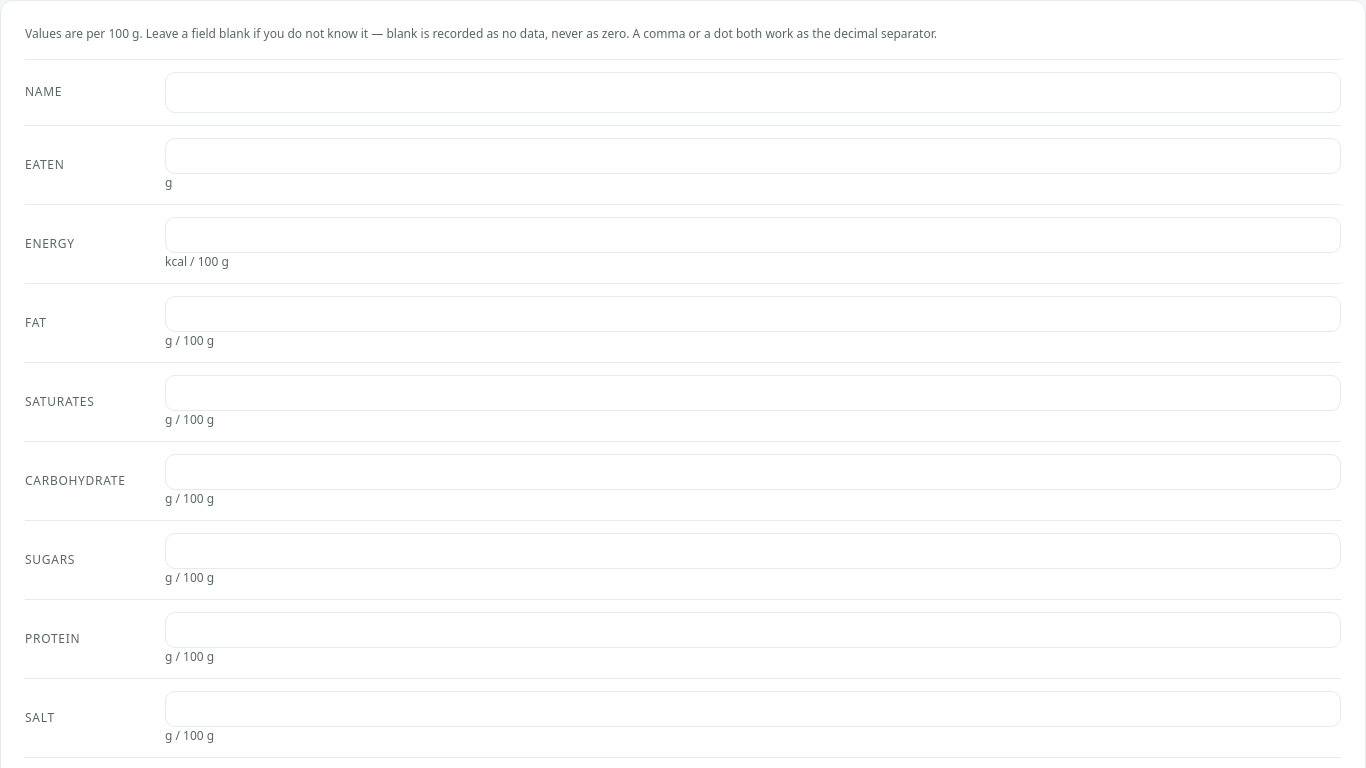
Test: FoodForm › refuses a negative value and names the field
This screenshot has width=1366, height=768.
Type "Apple" into the field with id "food-name". click: (753, 92)
box: left=165, top=72, right=1341, bottom=112
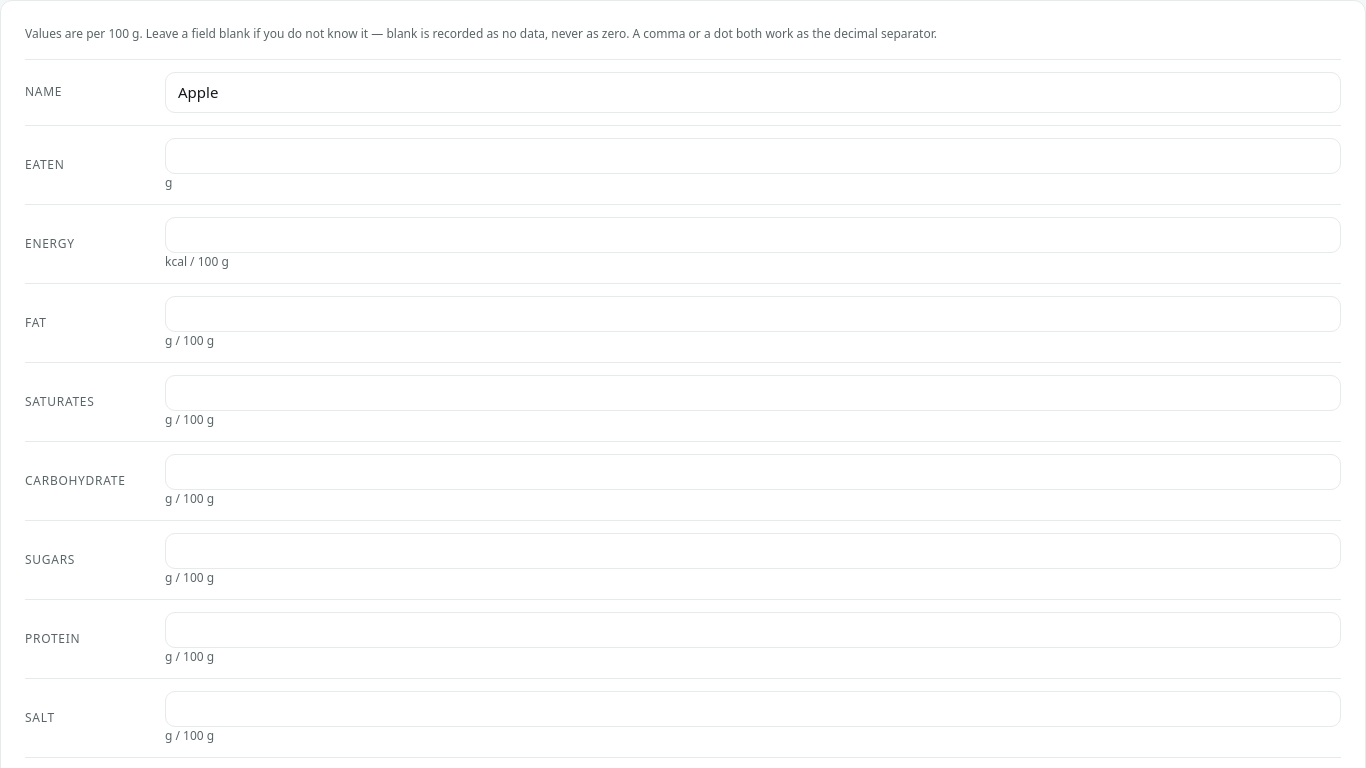
Type "150" into the field with id "food-grams". click: (753, 156)
box: left=165, top=138, right=1341, bottom=174
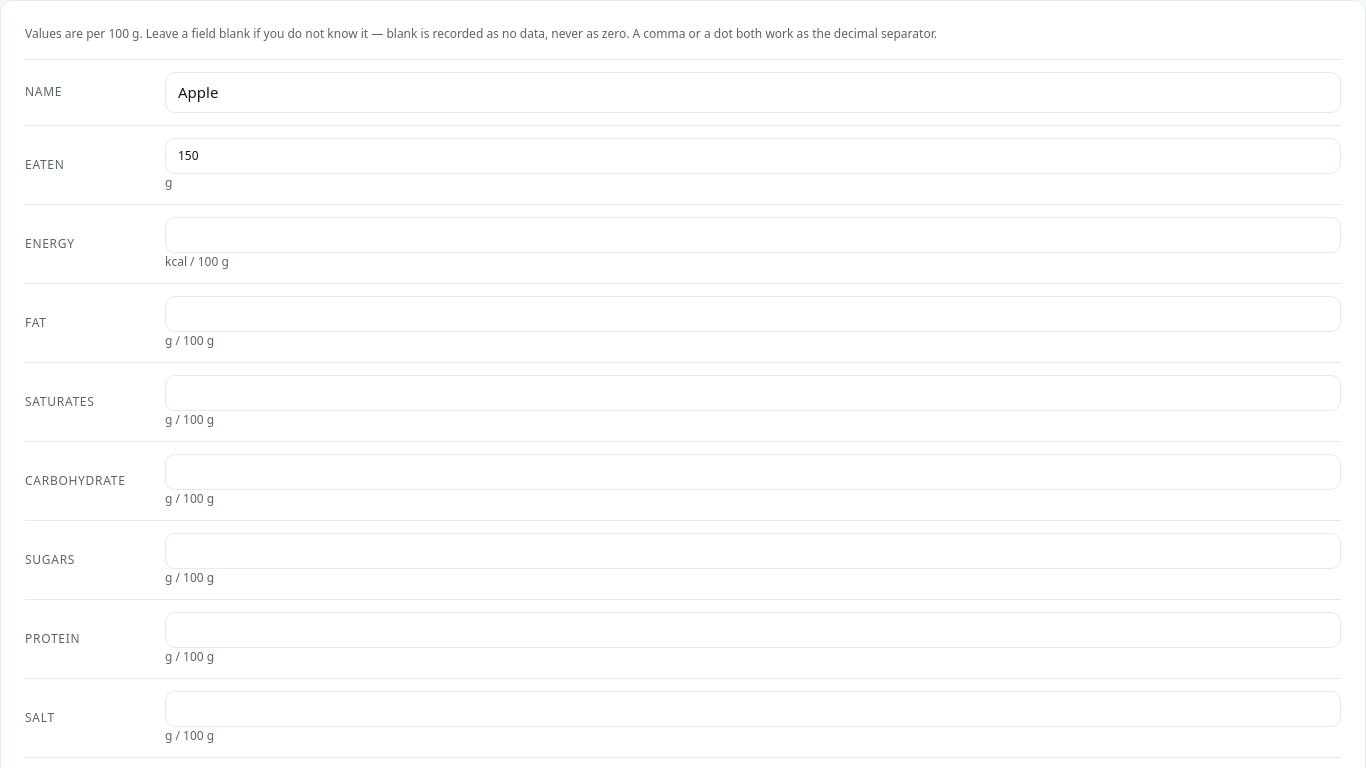
Type "-5" into the field with id "food-protein". click: (753, 630)
box: left=165, top=612, right=1341, bottom=648
(page scrolled)
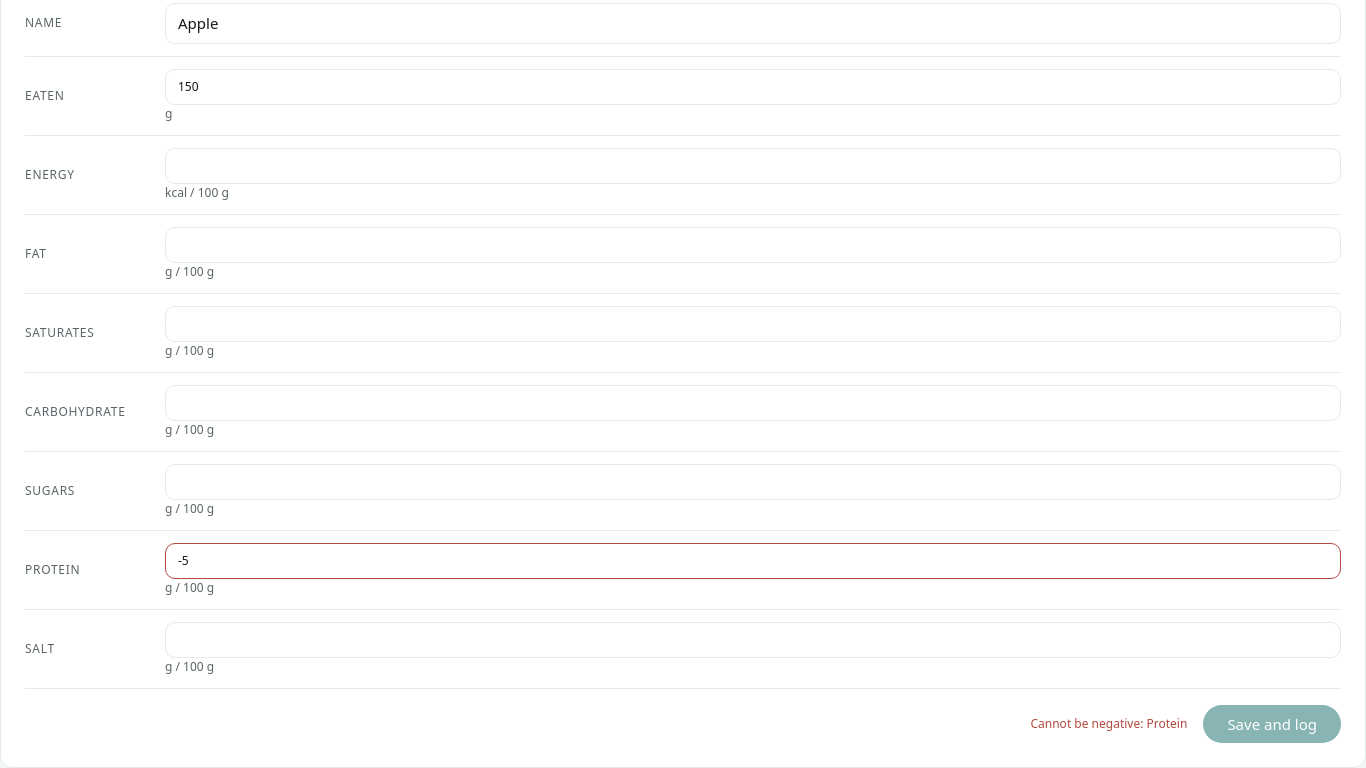
Now the submit button is disabled, box left=1203, top=704, right=1341, bottom=743
Now the text "Cannot be negative: Protein" is shown, box left=1030, top=715, right=1187, bottom=733
